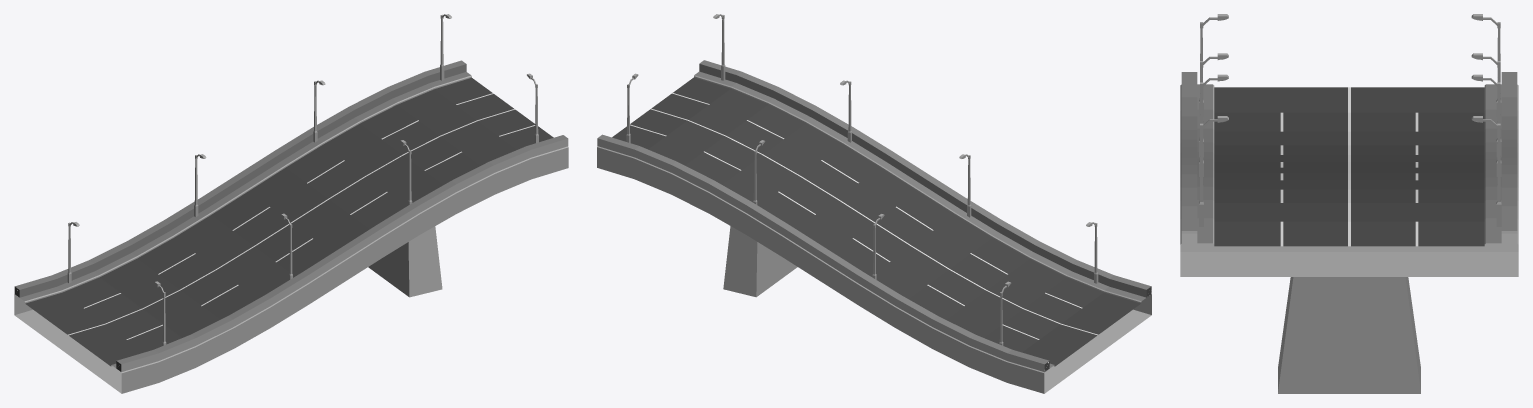
File: freewayToHighway.glb
The picture shows the model from 3 angles, left to right: view 1: azimuth 30°, elevation 25°; view 2: azimuth 150°, elevation 25°; view 3: azimuth 270°, elevation 25°; orthographic projection. The views are drawn at different scales.
Visible parts, largest first — view 1: Freeway_Lift_Highway_mesh; view 2: Freeway_Lift_Highway_mesh; view 3: Freeway_Lift_Highway_mesh.
Boxes of the visible parts, box(x1,y1,x2,y2) form: Freeway_Lift_Highway_mesh: box(14, 14, 568, 393); Freeway_Lift_Highway_mesh: box(597, 14, 1151, 393); Freeway_Lift_Highway_mesh: box(1180, 14, 1518, 393).
Bounding box in the file's own units: 60 × 26.97 × 25.
Materials: 2 (1 with a texture image).
